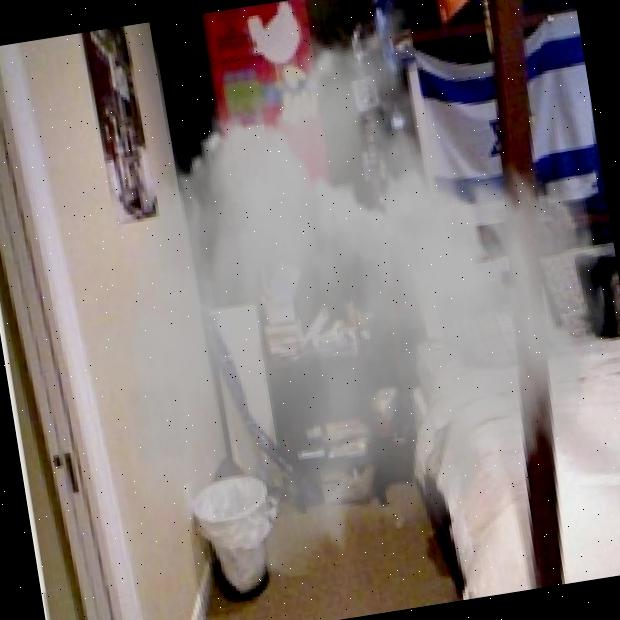smoke: (29, 0, 620, 610)
